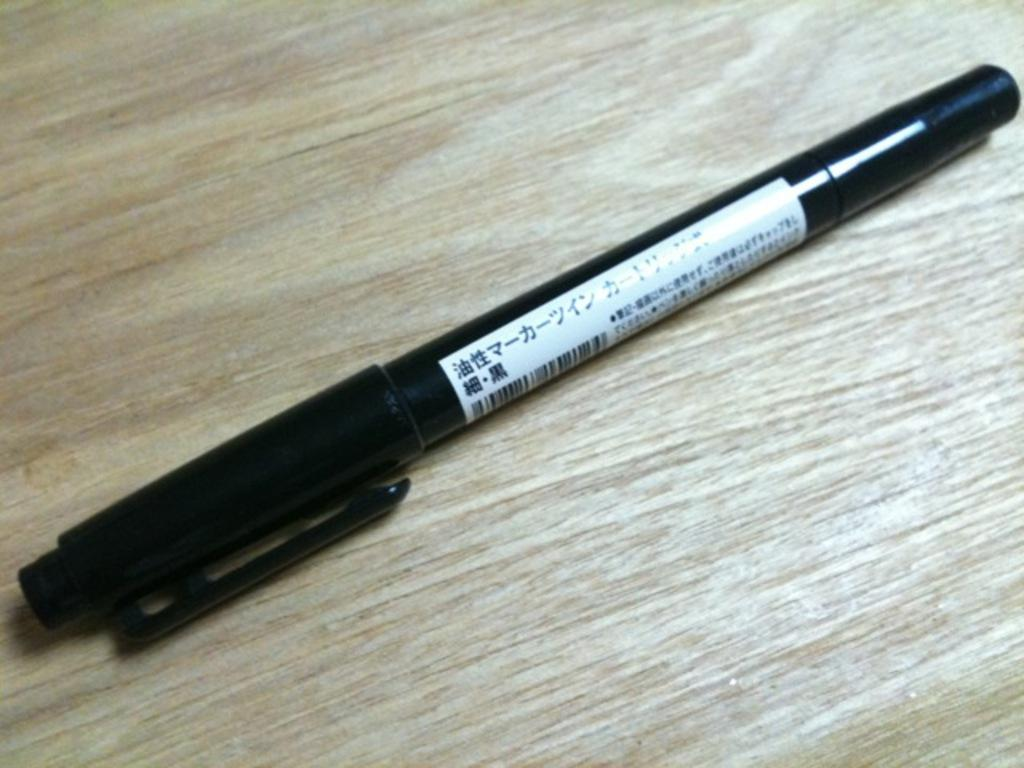pen: (8, 56, 1022, 656)
